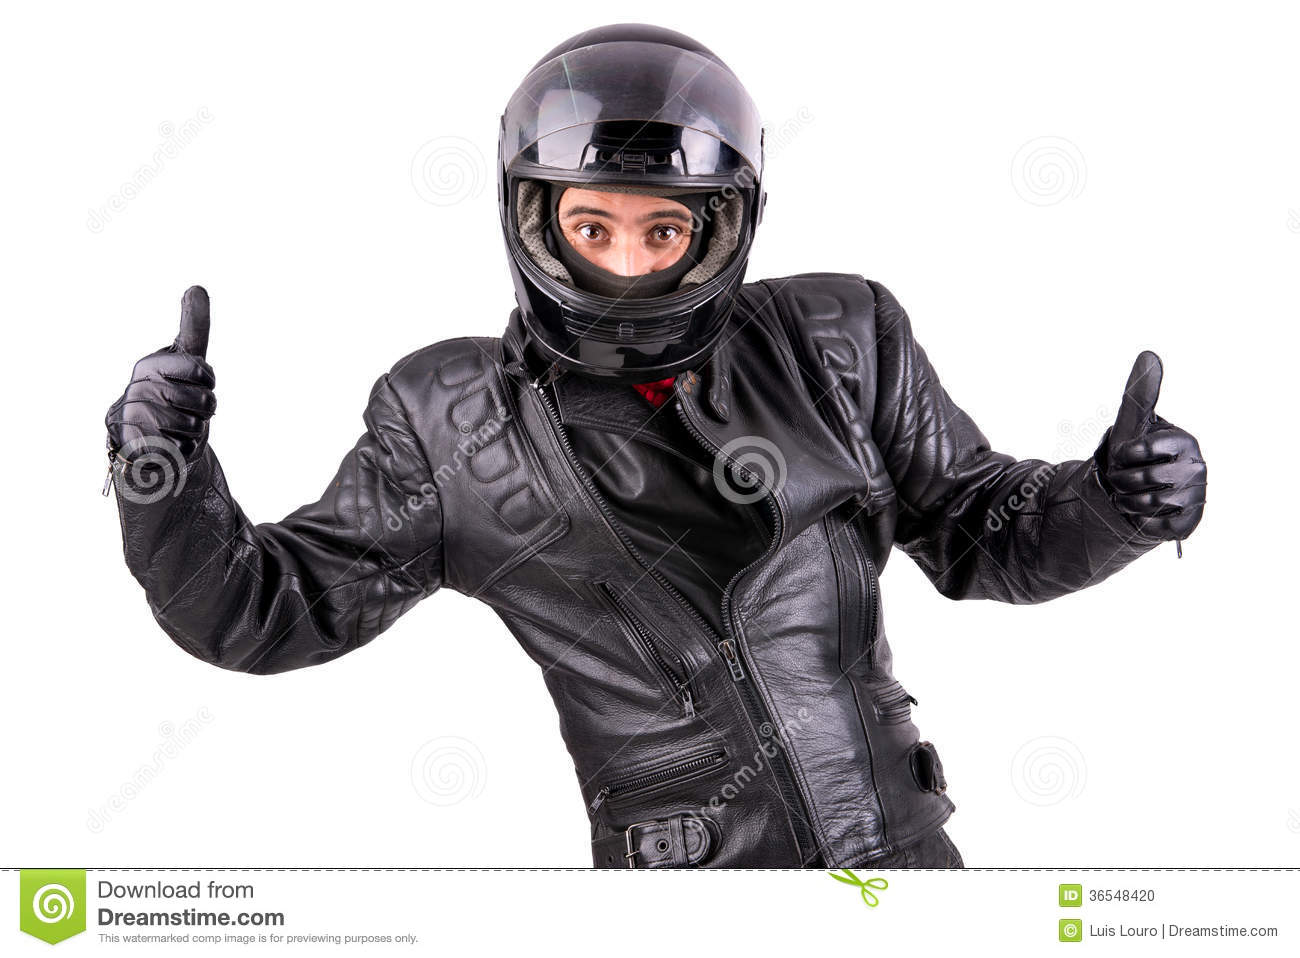helmet: (496, 29, 758, 358)
